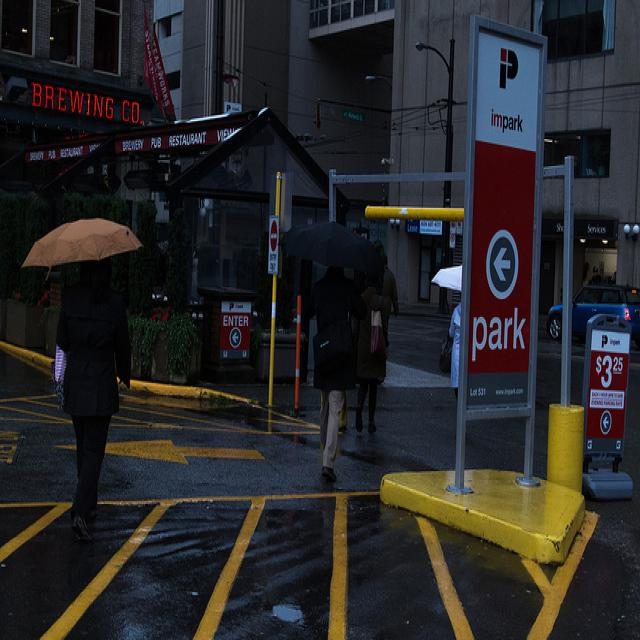Vehicle: (546, 283, 640, 346)
